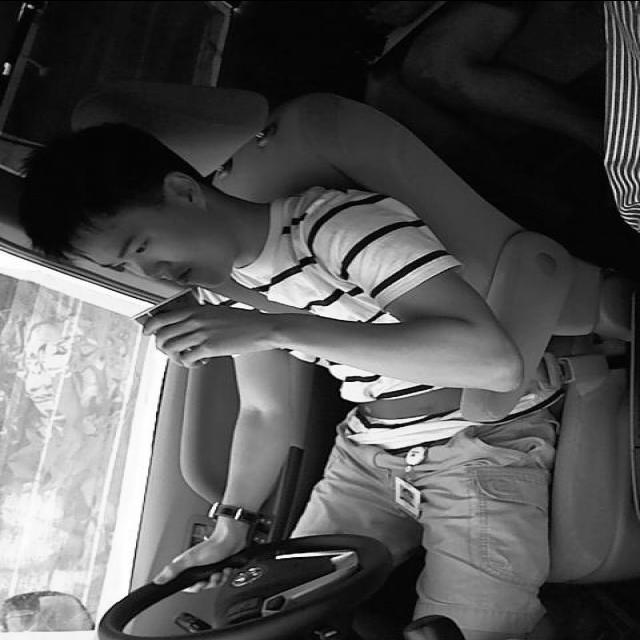drinking: (130, 289, 224, 366)
